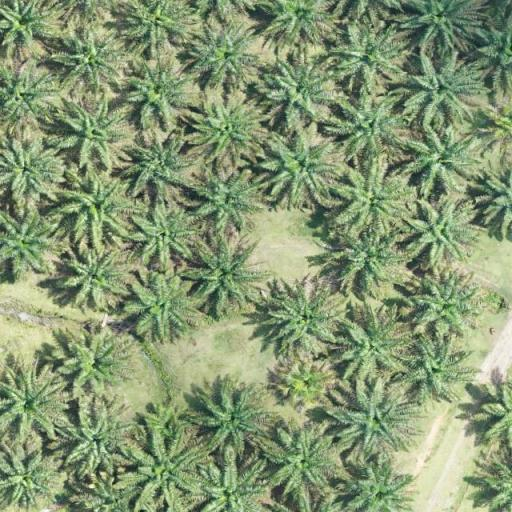Ganoderma: (279, 361, 334, 406)
